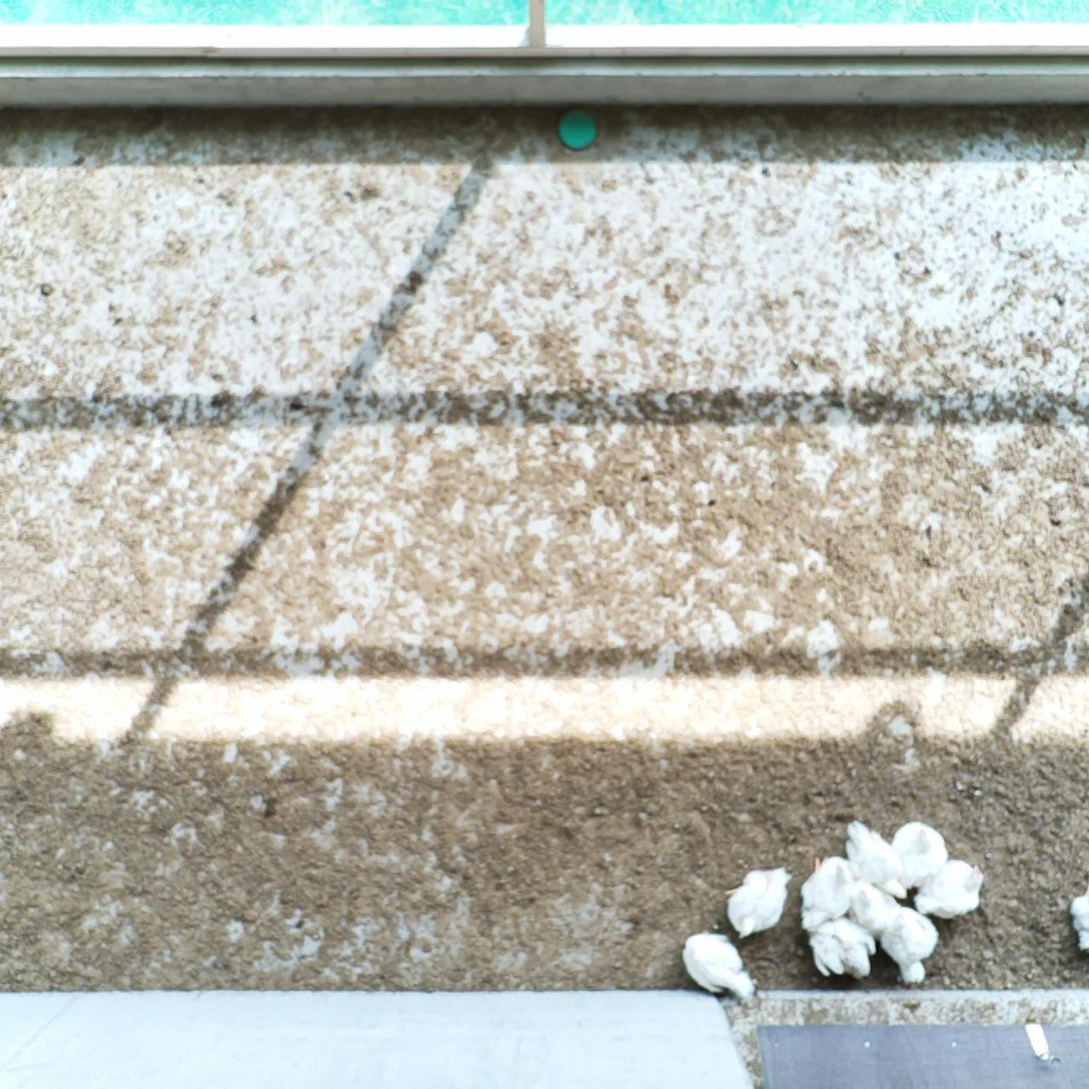chicken: (677, 924, 761, 1006), (840, 815, 911, 902), (718, 863, 795, 943), (875, 901, 943, 985), (805, 915, 877, 984), (797, 853, 860, 931), (917, 857, 988, 924), (889, 817, 950, 888), (849, 881, 901, 935), (1067, 882, 1089, 953)
